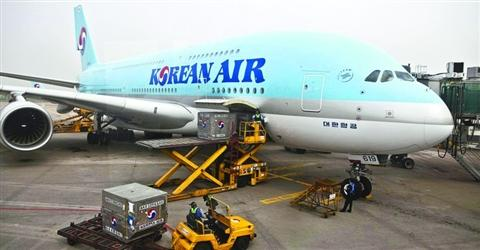airplane: (4, 23, 455, 162)
